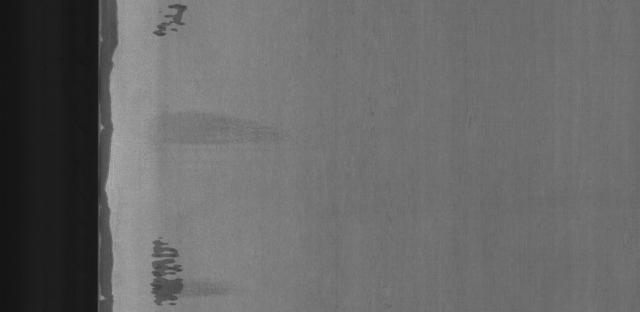oil_spot: (138, 231, 191, 311), (146, 0, 200, 48)
